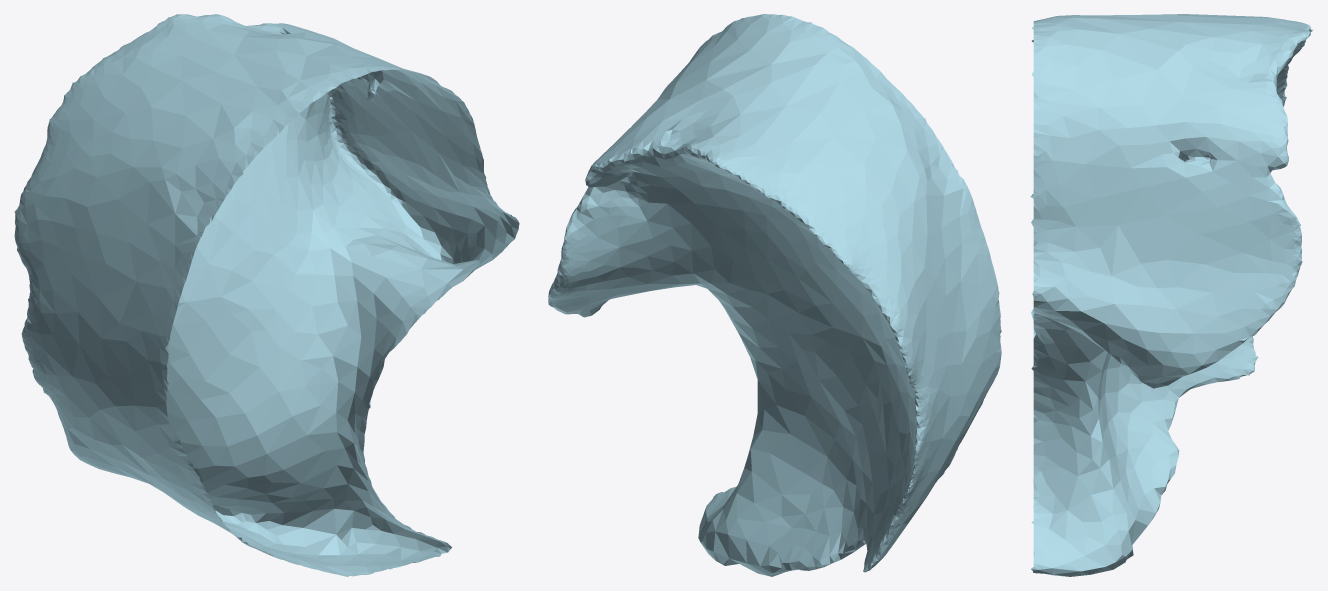
The model's file is rightlung.obj.
The picture shows the model from 3 angles, left to right: view 1: azimuth 30°, elevation 25°; view 2: azimuth 150°, elevation 25°; view 3: azimuth 270°, elevation 25°; orthographic projection.
Parts seen in each view (by area): view 1: grp1; view 2: grp1; view 3: grp1.
Boxes of the visible parts, left/top/right/bottom form: grp1: left=14, top=14, right=519, bottom=576; grp1: left=548, top=14, right=1001, bottom=576; grp1: left=1030, top=14, right=1312, bottom=576.
Size of the model in its own units: 133 by 168 by 83.29.
